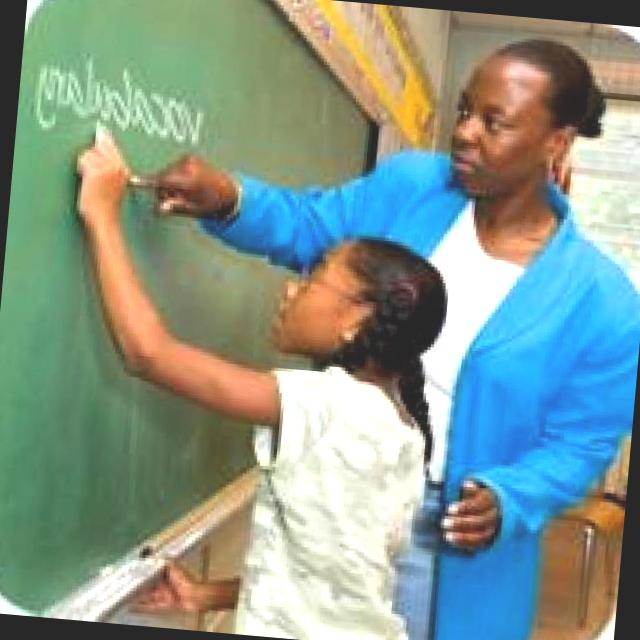no_vest: (193, 343, 458, 640), (423, 165, 638, 500)
